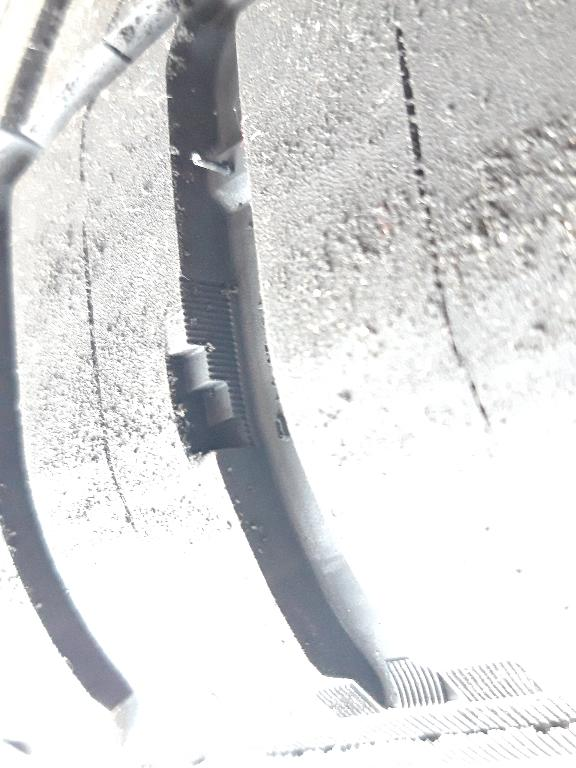temoin:75: (158, 305, 265, 470)
